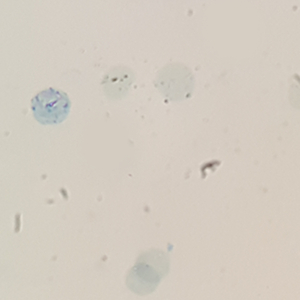aggregate reticulocyte: (28, 87, 73, 127)
erythrocyte: (150, 61, 195, 104), (100, 63, 139, 104), (133, 248, 172, 285), (123, 261, 161, 298)
